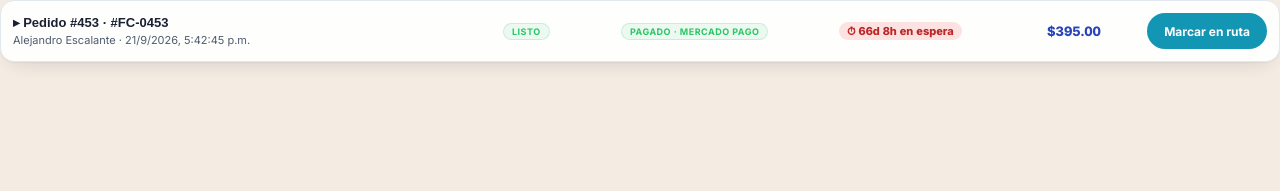
al abrir el folio muestra los productos del pedido
Expected: the text "Roxidolin" is not shown
Click the button "▸ Pedido #453 · #FC-0453" at (91, 23), box [13,15,168,30]
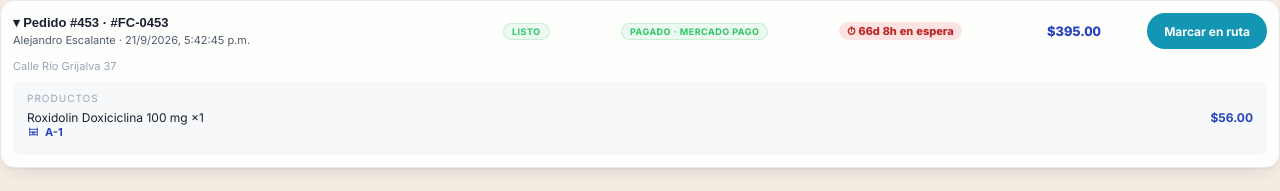
Expected: the text "Roxidolin Doxiciclina 100 mg ×1" is shown, [27,110,204,125]
Expected: the text "A-1" is shown, [27,125,63,139]
